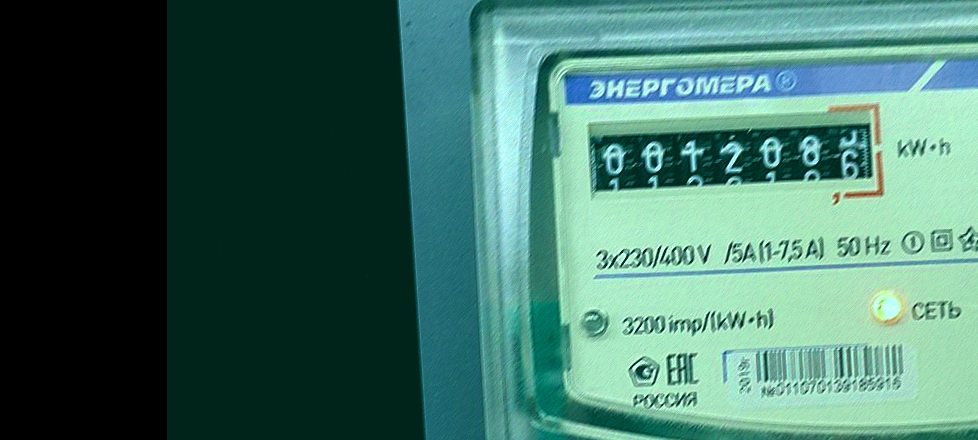0: (643, 134, 668, 173), (760, 131, 787, 167), (605, 137, 627, 175)
1: (684, 134, 703, 172)
2: (721, 136, 749, 173)
6: (839, 142, 864, 178)
8: (799, 130, 824, 167)
screen: (578, 90, 897, 227)
